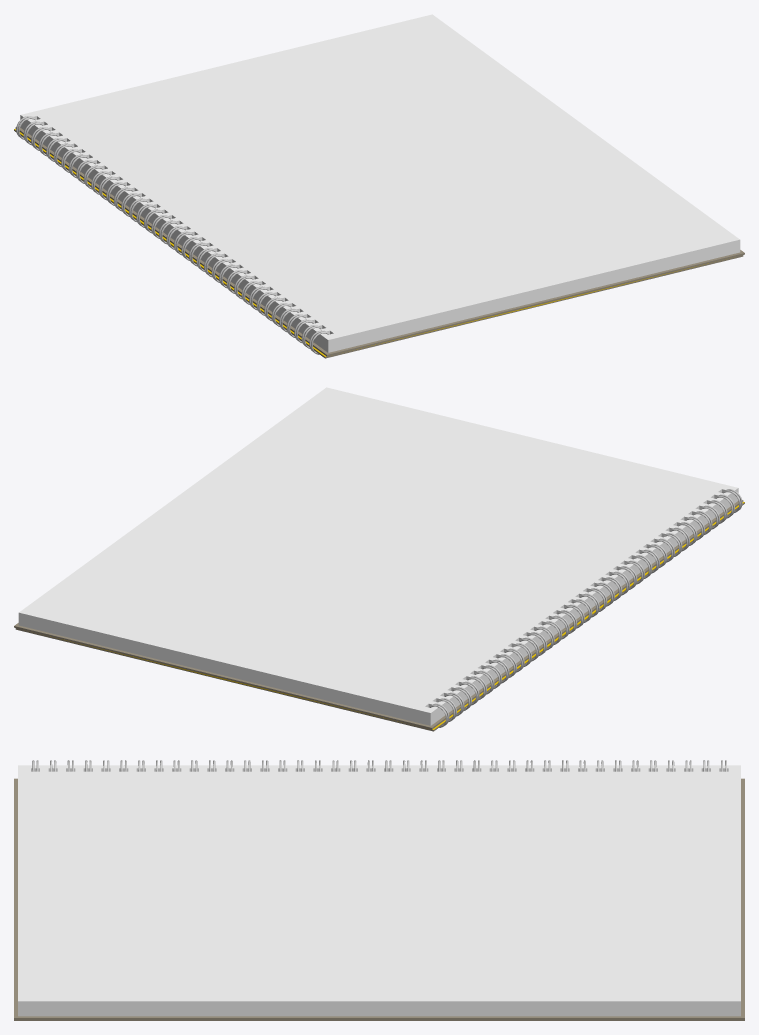
The model's file is 432_スケッチブック中開.glb.
The picture shows the model from 3 angles, top to bottom: view 1: azimuth 30°, elevation 25°; view 2: azimuth 150°, elevation 25°; view 3: azimuth 270°, elevation 25°; orthographic projection. The views are drawn at different scales.
Visible parts, largest first — view 1: youshi, ring, daishi_ura, daishi_omote; view 2: youshi, ring, daishi_ura, daishi_omote; view 3: youshi, daishi_ura, ring, daishi_omote.
Part boxes in pixels (x1,y1,x2,y2): youshi: (20,14,740,352); ring: (16,116,329,354); daishi_ura: (15,126,744,356); daishi_omote: (14,129,743,358); youshi: (18,387,738,725); ring: (429,489,742,727); daishi_ura: (14,499,743,729); daishi_omote: (15,502,744,731); youshi: (18,765,740,1016); daishi_ura: (14,778,744,1019); ring: (32,760,726,771); daishi_omote: (14,1020,744,1020).
Bounding box in the file's own units: 0.2779 × 0.014 × 0.352.
Materials: 4 (1 with a texture image).
